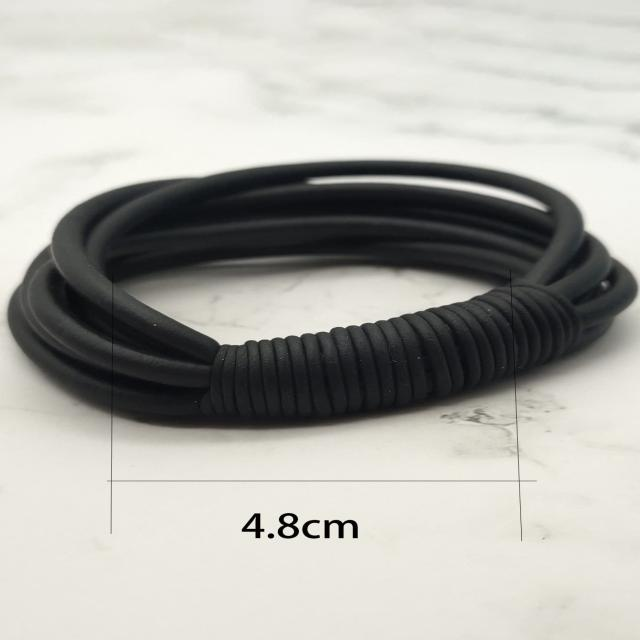bracelet: (17, 52, 640, 441)
